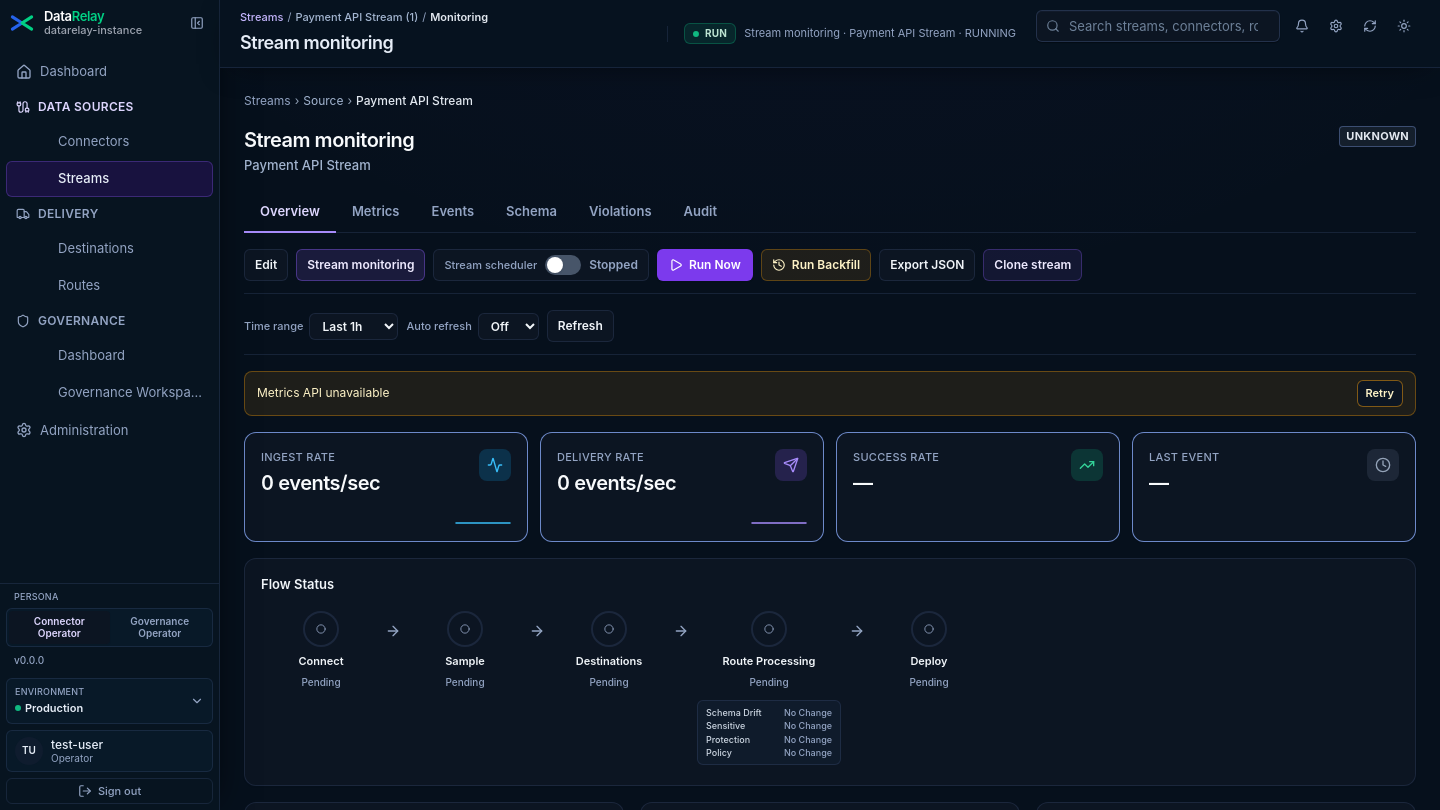
Scenario: App shell (phase: sidebar, header, dashboard) › renders stream monitoring inspector at /streams/:streamId/runtime
The width and height of the screenshot is (1440, 810).
Check: the navigation bar named "Breadcrumb" is shown, box [240, 10, 488, 24]
Check: the 1st heading "Stream monitoring" is shown, box [240, 32, 393, 53]
Click the tab with test id "stream-detail-tab-metrics" at coordinates (376, 212), box [336, 192, 416, 233]
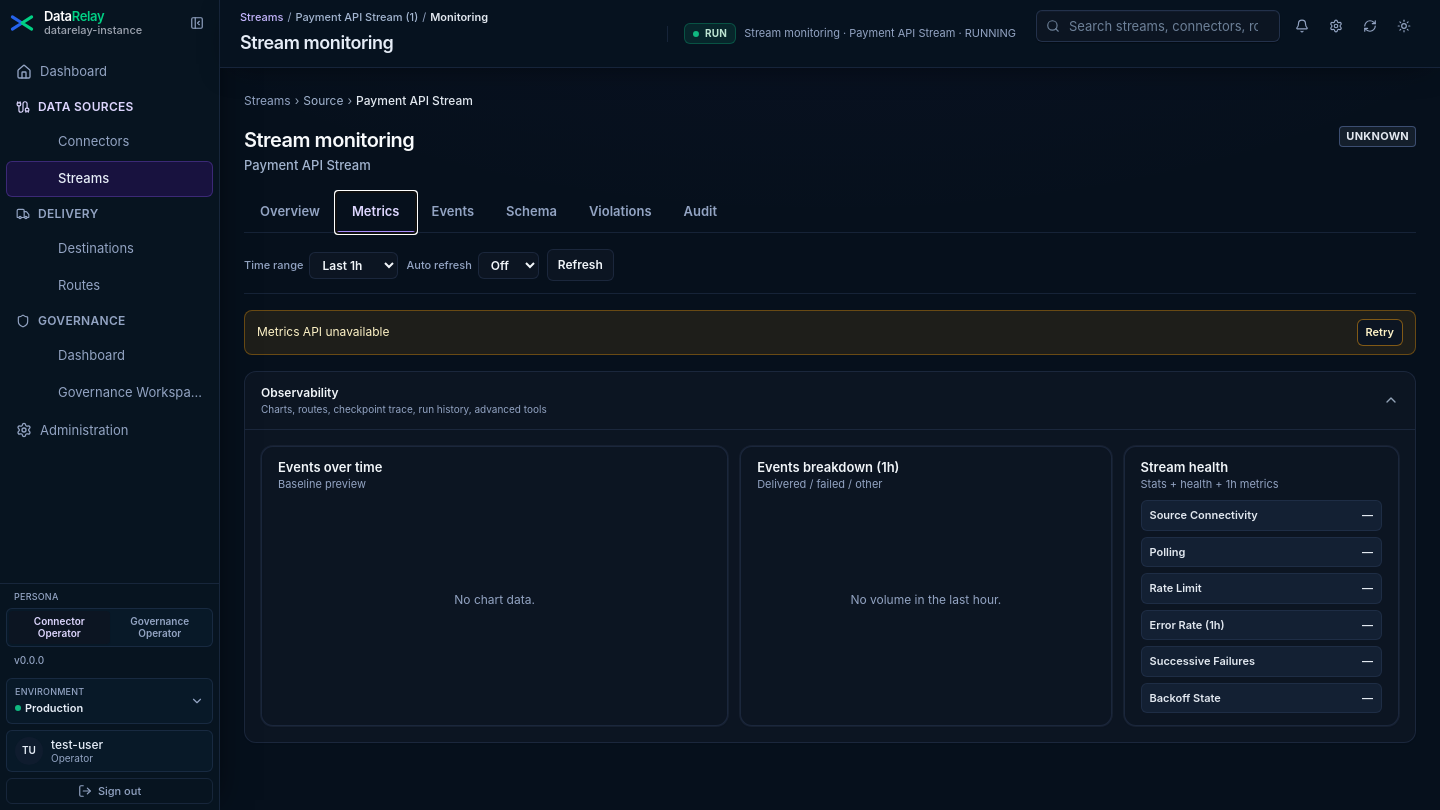
Check: the element with test id "stream-monitoring-observability" is shown, box [244, 371, 1416, 743]
